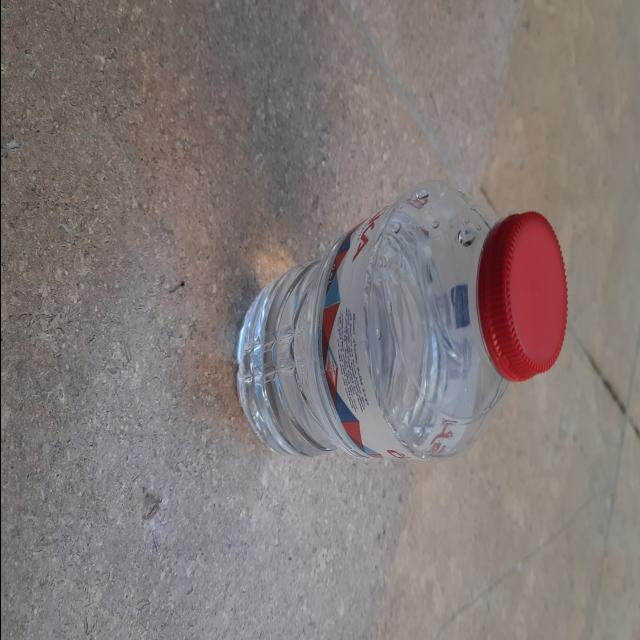plastic: (205, 122, 579, 510)
